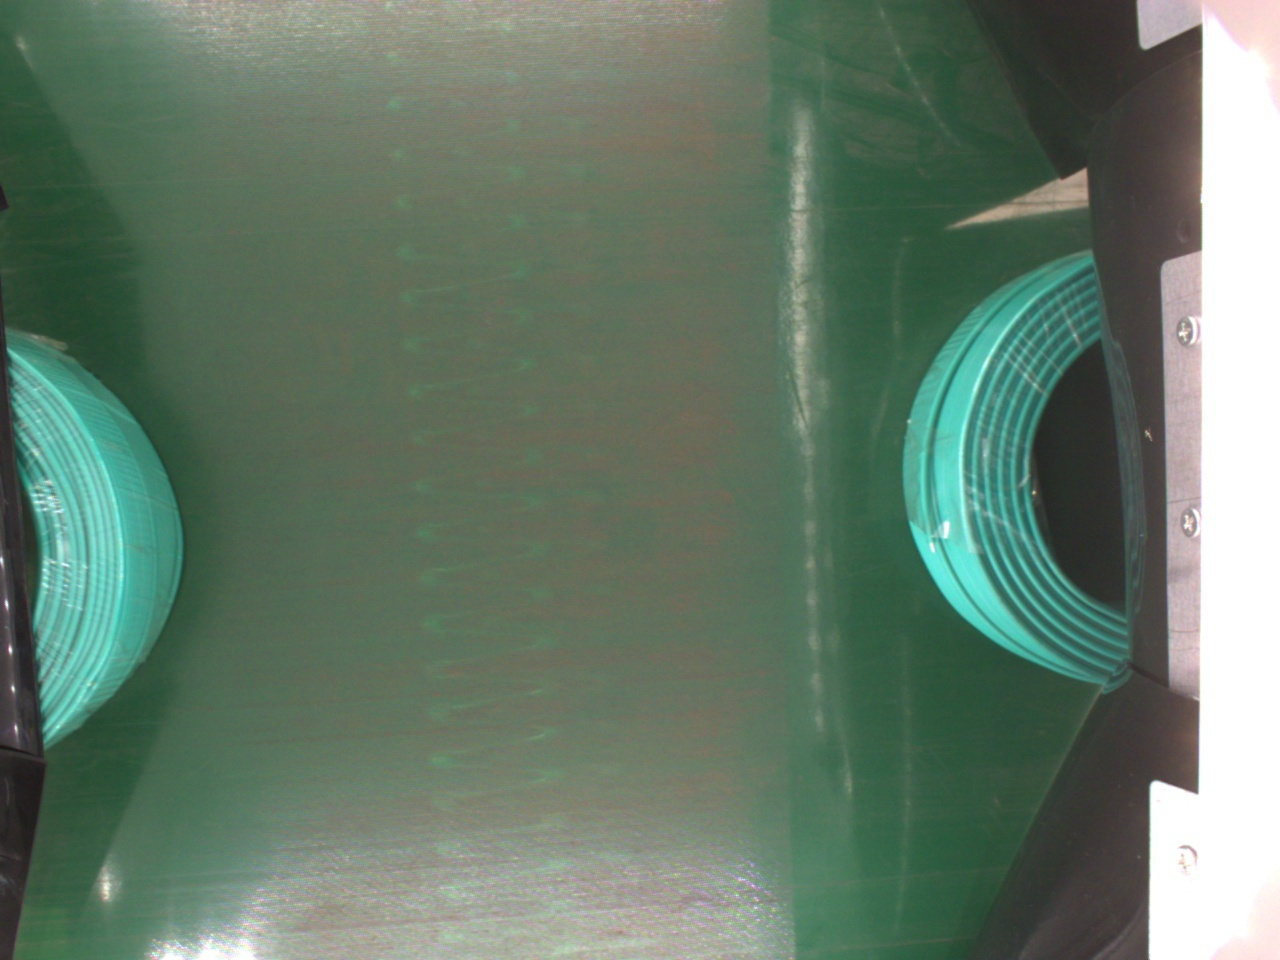green: (897, 250, 1136, 684), (5, 324, 185, 742)
